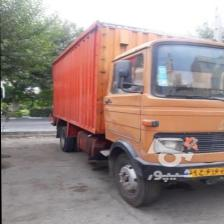plate: (183, 166, 224, 176)
